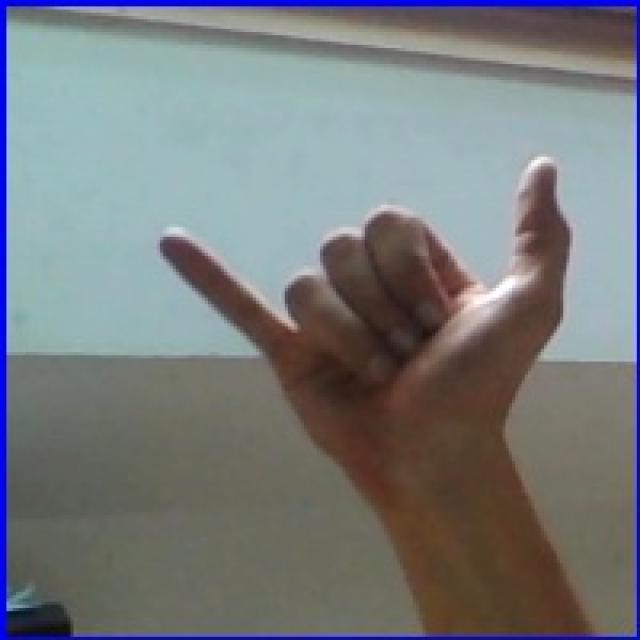Y: (104, 125, 613, 518)
